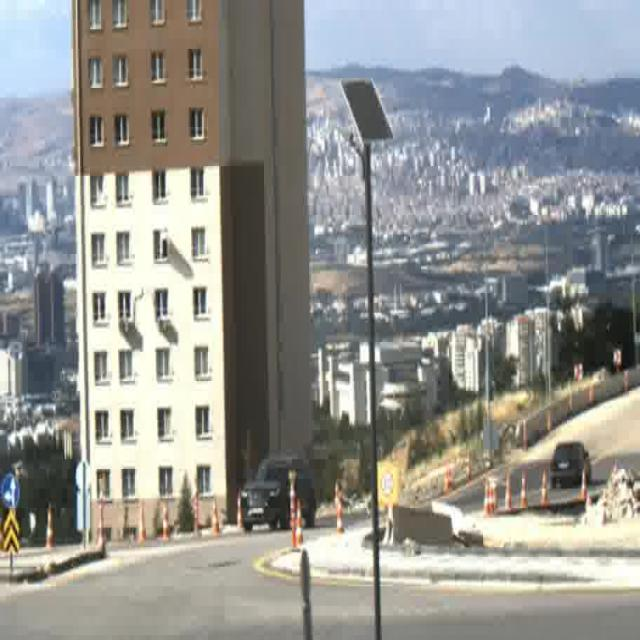Car: (242, 454, 314, 528), (551, 445, 591, 487)
